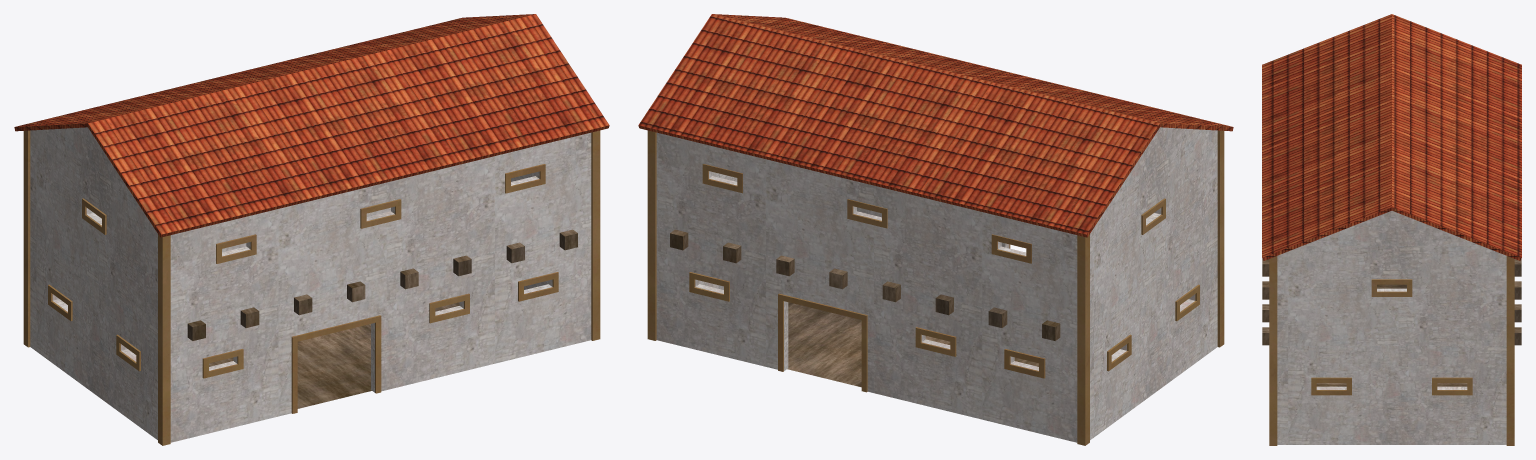
Rendered from shed.glb.
The picture shows the model from 3 angles, left to right: view 1: azimuth 30°, elevation 25°; view 2: azimuth 150°, elevation 25°; view 3: azimuth 270°, elevation 25°; orthographic projection. The views are drawn at different scales.
Visible parts, largest first — view 1: prop; view 2: prop; view 3: prop.
Boxes of the visible parts, bbox=[...] form: prop: bbox=[14, 14, 609, 445]; prop: bbox=[638, 14, 1233, 445]; prop: bbox=[1262, 14, 1521, 445].
Size of the model in its own units: 6.32 by 3.68 by 3.59.
Materials: 4 (4 with a texture image).
